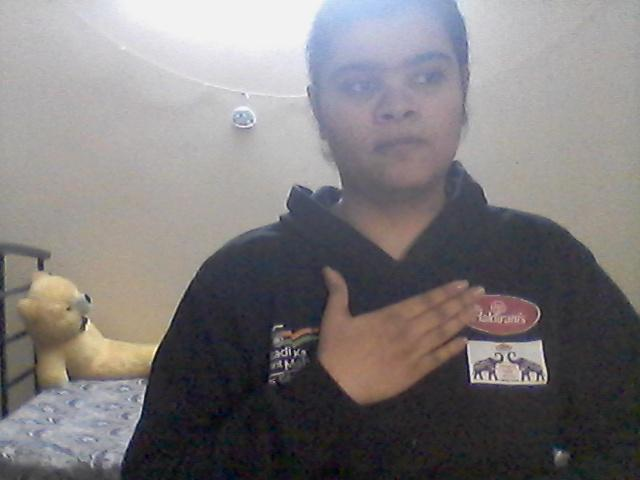please: (315, 259, 491, 406)
